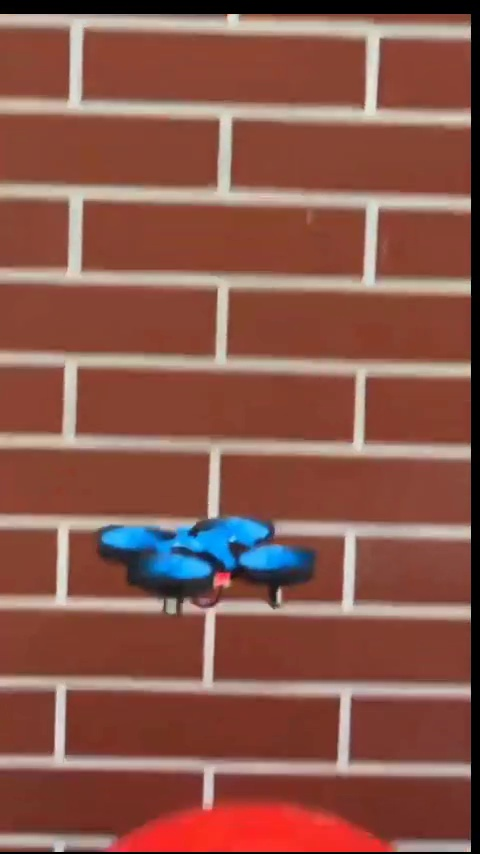drone: (96, 512, 323, 619)
